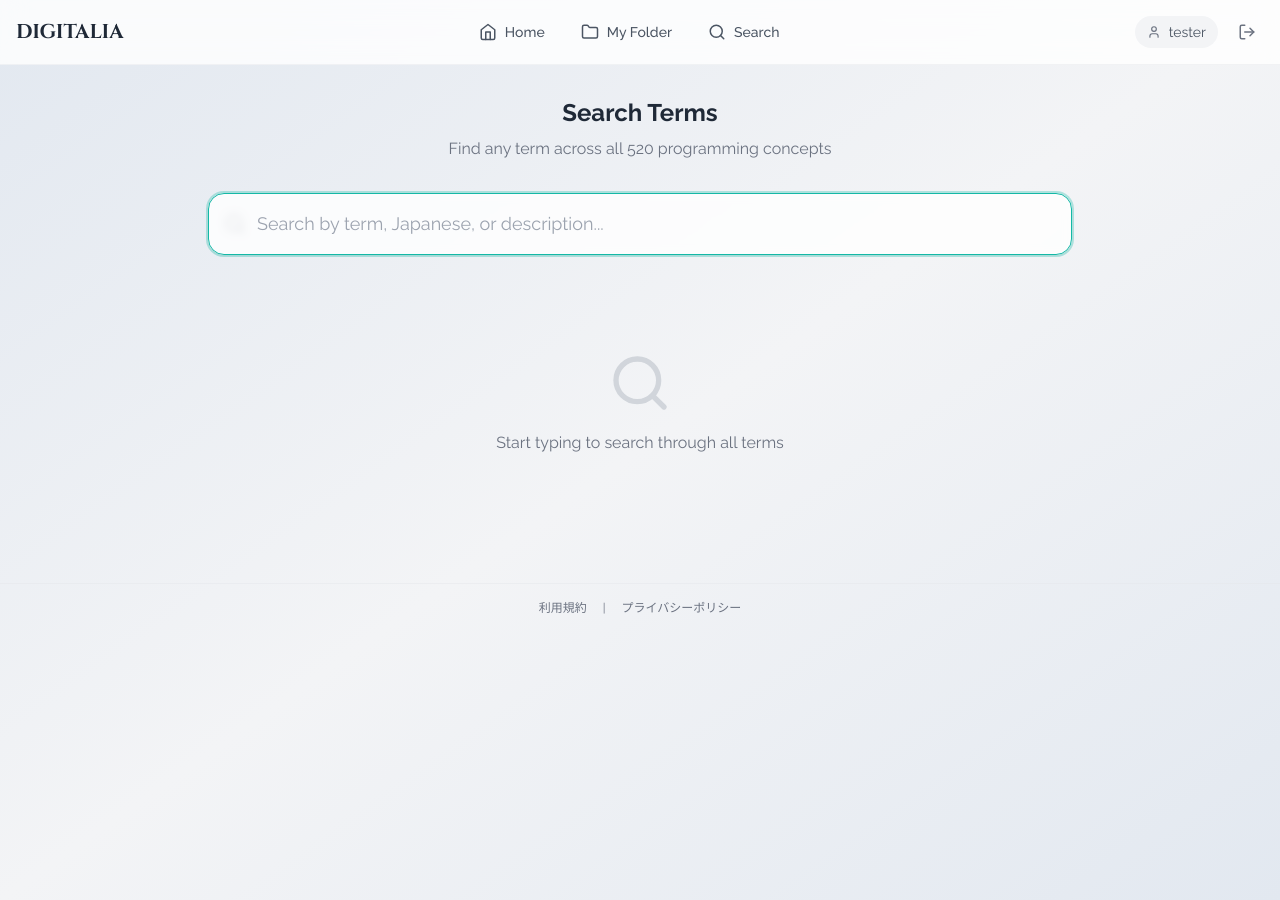
it: SearchPage › shows results when terms are found
This screenshot has width=1280, height=900.
Note: Type into input to set query state (setAttribute doesn't trigger React onChange)
In the field with placeholder "Search by term, Japanese, or description...": (640, 224) [208,193,1072,255], type "test"
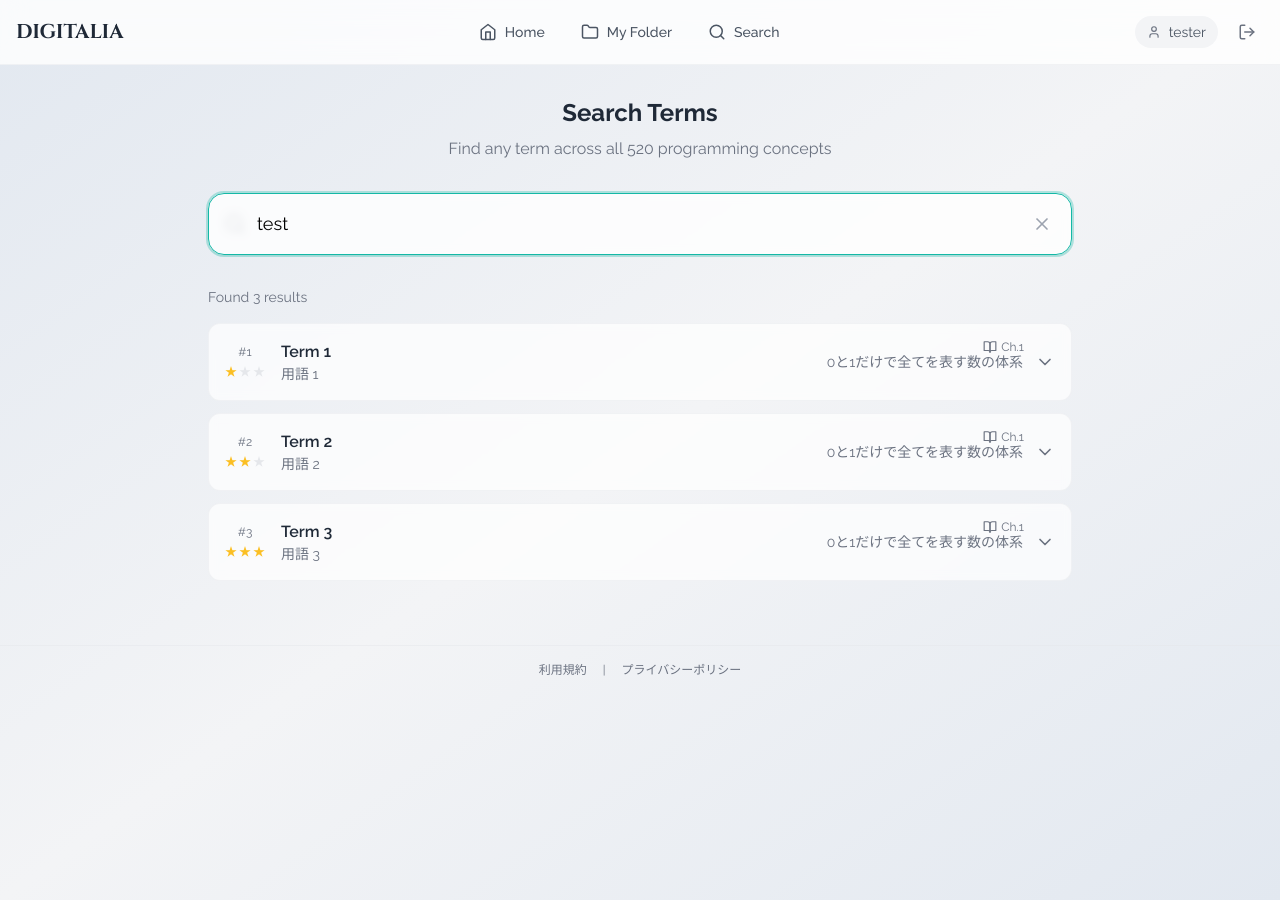
Expected: the heading "Term 1" is shown, [281,340,331,364]
Expected: the heading "Term 2" is shown, [281,430,332,454]
Expected: the heading "Term 3" is shown, [281,520,332,544]
